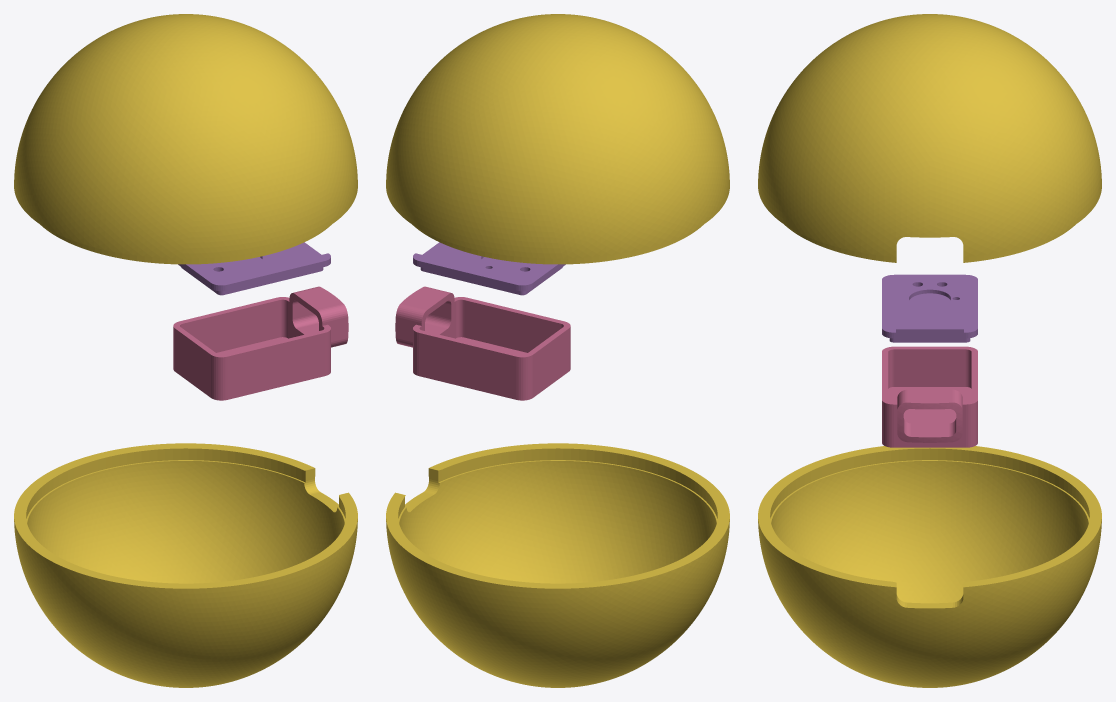
Rendered from preview.glb.
3 views of the same model, side by side, from view 1: azimuth 30°, elevation 25°; view 2: azimuth 150°, elevation 25°; view 3: azimuth 270°, elevation 25° (orthographic).
Visible parts, largest first — view 1: shell_top, shell_bottom, pod_tray, pod_lid; view 2: shell_top, shell_bottom, pod_tray, pod_lid; view 3: shell_bottom, shell_top, pod_tray, pod_lid.
Part boxes in pixels (box(x1,y1,x2,y2)): shell_top: box(14, 14, 357, 264); shell_bottom: box(14, 443, 357, 687); pod_tray: box(173, 286, 348, 400); pod_lid: box(178, 242, 330, 295); shell_top: box(386, 14, 729, 264); shell_bottom: box(386, 443, 729, 687); pod_tray: box(395, 286, 570, 400); pod_lid: box(413, 242, 565, 295); shell_bottom: box(758, 446, 1101, 687); shell_top: box(758, 14, 1101, 262); pod_tray: box(882, 346, 977, 447); pod_lid: box(882, 274, 977, 342).
Bounding box in the file's own units: 0.0848 × 0.175 × 0.085.
